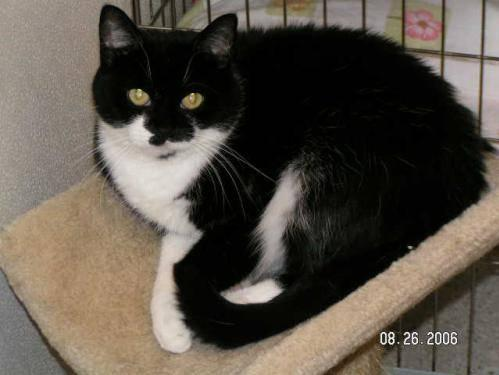cat: (92, 5, 494, 351)
